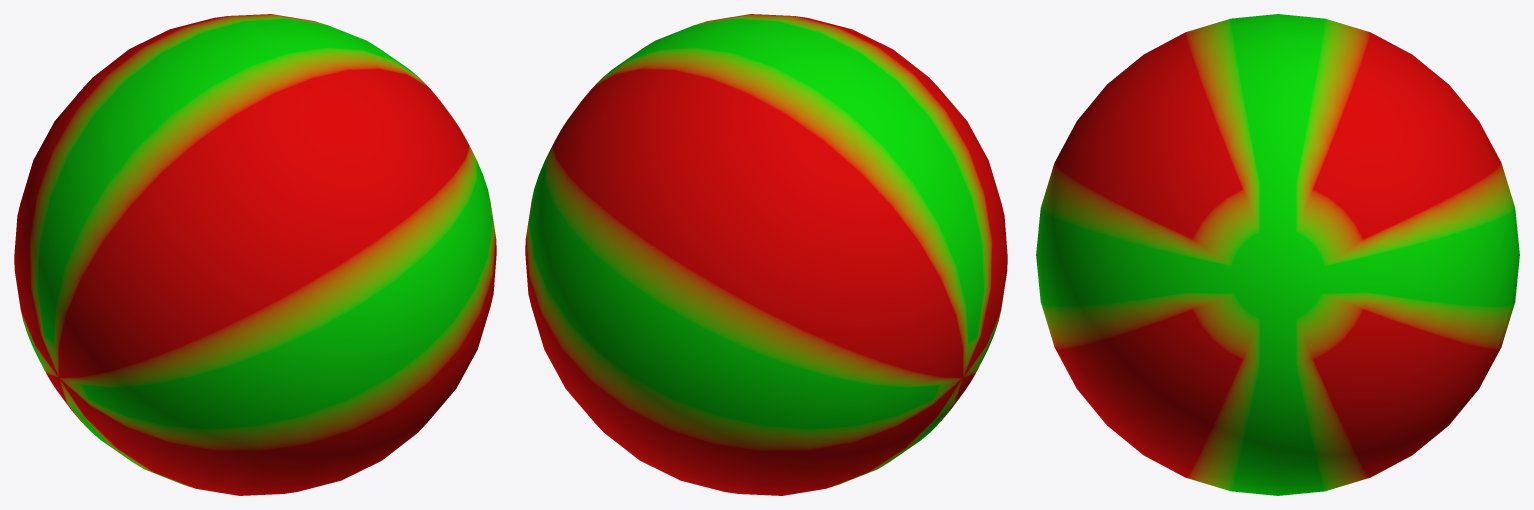
The model's file is SM_ShieldPulse.FBX.
3 views of the same model, side by side, from view 1: azimuth 30°, elevation 25°; view 2: azimuth 150°, elevation 25°; view 3: azimuth 270°, elevation 25° (orthographic).
Visible parts, largest first — view 1: SM_ShieldPulse; view 2: SM_ShieldPulse; view 3: SM_ShieldPulse.
Part boxes in pixels (<box>): SM_ShieldPulse: <box>14,14,496,495</box>; SM_ShieldPulse: <box>525,14,1007,495</box>; SM_ShieldPulse: <box>1036,14,1519,495</box>.
Bounding box in the file's own units: 59.94 × 60 × 59.94.
